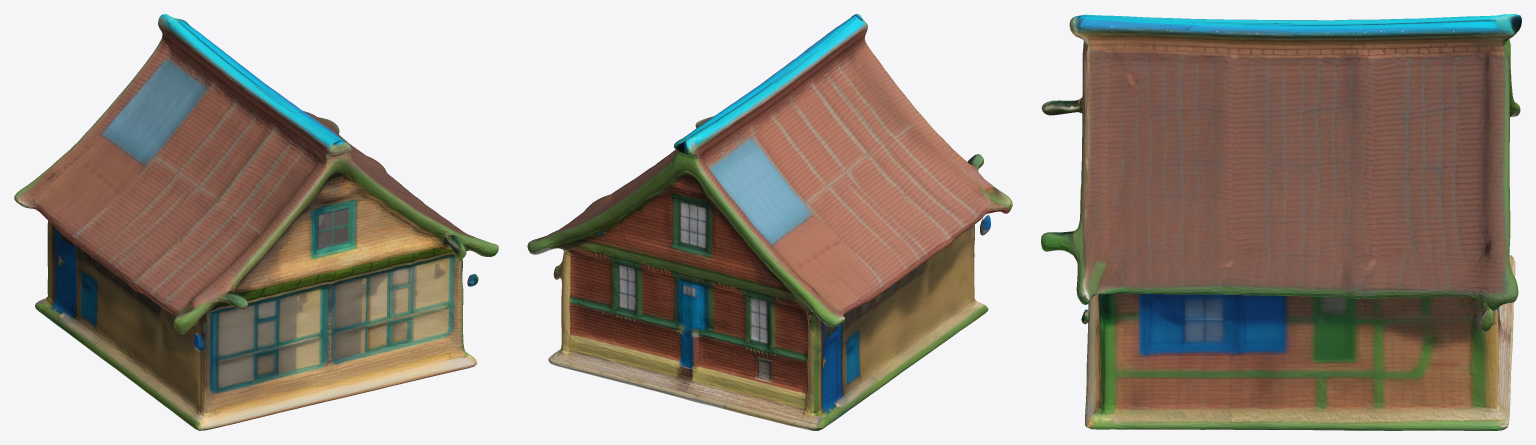
3 renders of one model, left to right at view 1: azimuth 30°, elevation 25°; view 2: azimuth 150°, elevation 25°; view 3: azimuth 270°, elevation 25°, orthographic. The views are drawn at different scales.
Parts seen in each view (by area): view 1: Node; view 2: Node; view 3: Node.
Part boxes in pixels (<box>): Node: <box>14,14,498,430</box>; Node: <box>527,14,1012,430</box>; Node: <box>1041,14,1521,430</box>.
Size of the model in its own units: 1.96 by 1.52 by 2.
1 material, 1 textured.
